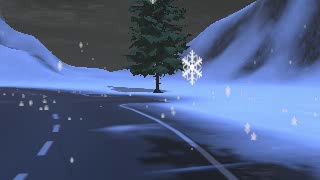Lane: (0, 87, 239, 179)
